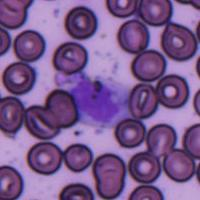L: (68, 72, 133, 127)
